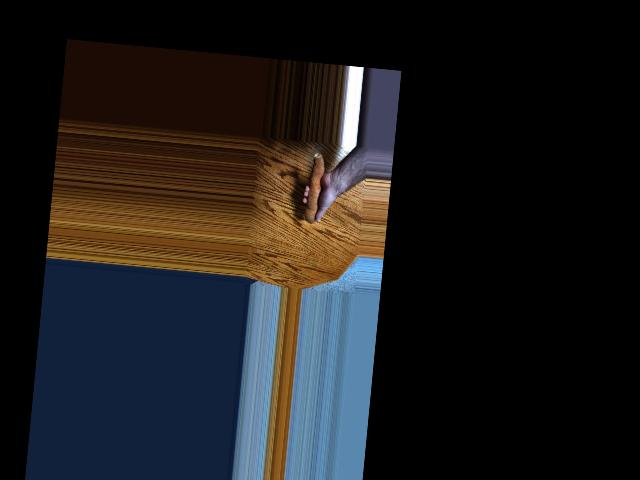sweet_potato: (300, 151, 330, 229)
